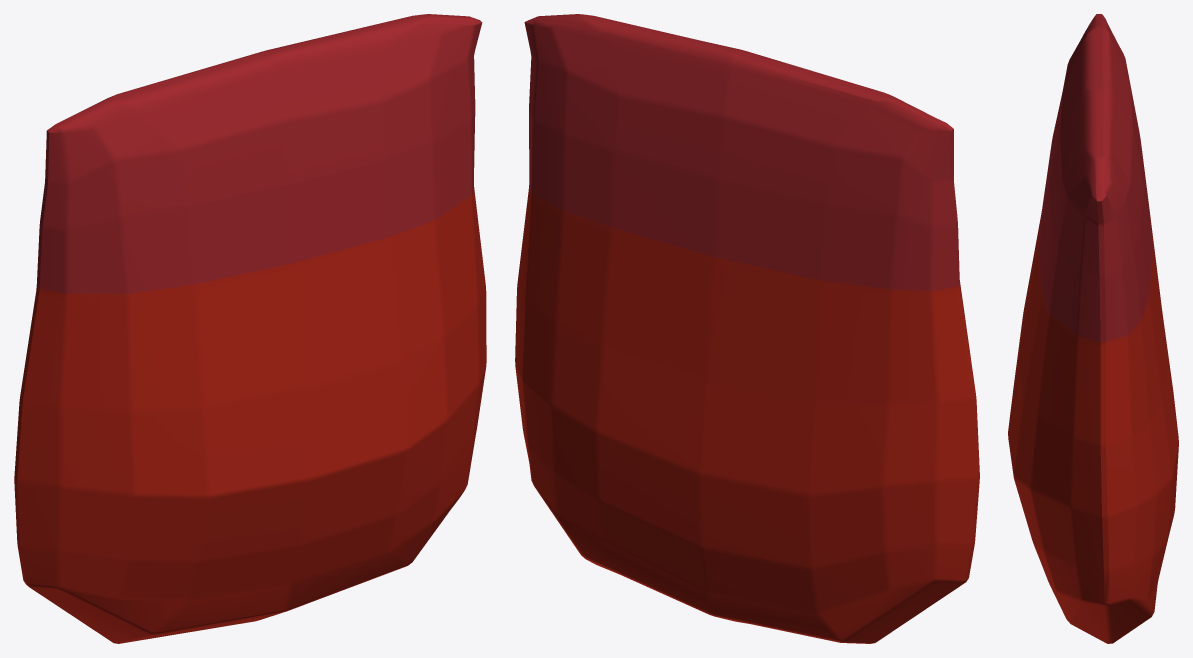
Rendered from Ürün7.fbx.
3 renders of one model, left to right at view 1: azimuth 30°, elevation 25°; view 2: azimuth 150°, elevation 25°; view 3: azimuth 270°, elevation 25°, orthographic. The views are drawn at different scales.
Visible parts, largest first — view 1: pCube79; view 2: pCube79; view 3: pCube79.
Part boxes in pixels (x1,y1,x2,y2): pCube79: (14,14,486,643); pCube79: (515,14,979,643); pCube79: (1008,14,1178,643).
Size of the model in its own units: 10.11 by 11.75 by 3.53.
